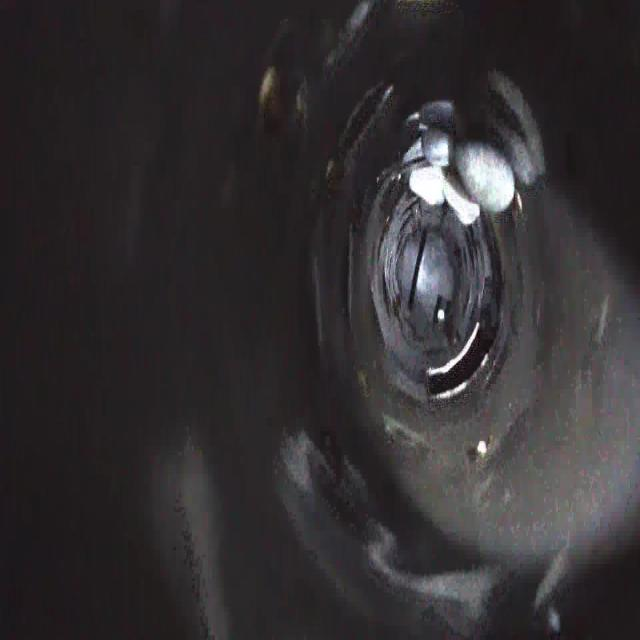crack: (363, 226, 398, 318), (462, 236, 496, 304)
hole: (421, 319, 500, 407)
